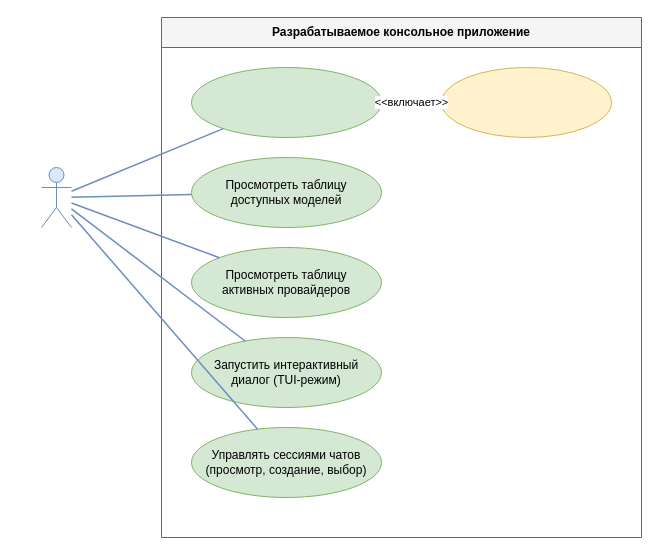
The diagram is 659 pixels wide and 555 high, and some of its shapes have lost their labels. The centre of each missing label's shape, as x and y in pixels:
"Автоматически сохранить настройки сессии" belongs at [526,102].
"Выполнить текстовый запрос к искусственному интеллекту" belongs at [286,102].
"Пользователь" belongs at [56,197].
